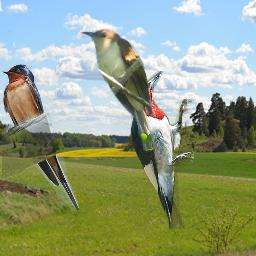Cuckoo: (78, 27, 157, 157)
Swallow: (2, 63, 79, 211)
Woodpecker: (127, 71, 194, 229)
